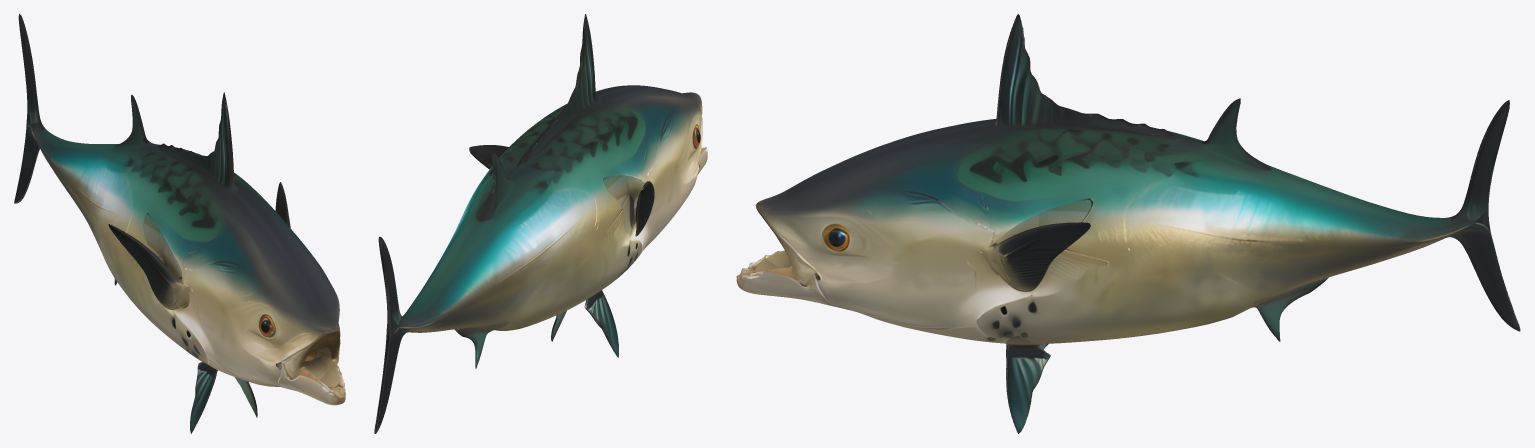
File: hyper_3d_ai_-_the_realistic_talking_fish.glb
The picture shows the model from 3 angles, left to right: view 1: azimuth 30°, elevation 25°; view 2: azimuth 150°, elevation 25°; view 3: azimuth 270°, elevation 25°; orthographic projection. The views are drawn at different scales.
Visible parts, largest first — view 1: Object_2; view 2: Object_2; view 3: Object_2.
Part boxes in pixels (x1=…): Object_2: x1=14, y1=14, x2=345, y2=433; Object_2: x1=374, y1=14, x2=707, y2=433; Object_2: x1=736, y1=14, x2=1520, y2=433.
Size of the model in its own units: 0.5773 by 1.07 by 1.9.
1 material, 1 textured.
